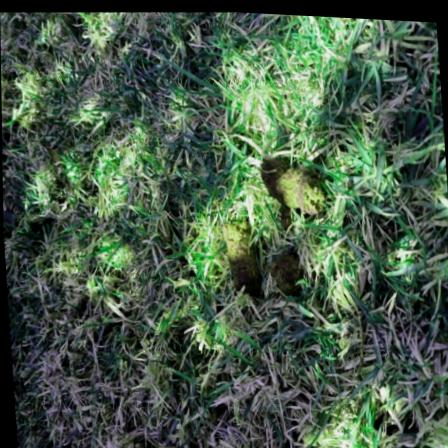dog-poop: (210, 143, 320, 316)
